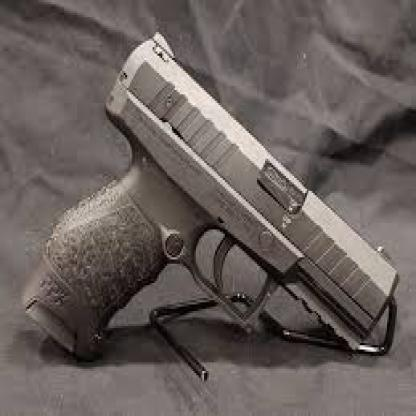Pistol: (56, 17, 388, 412)
